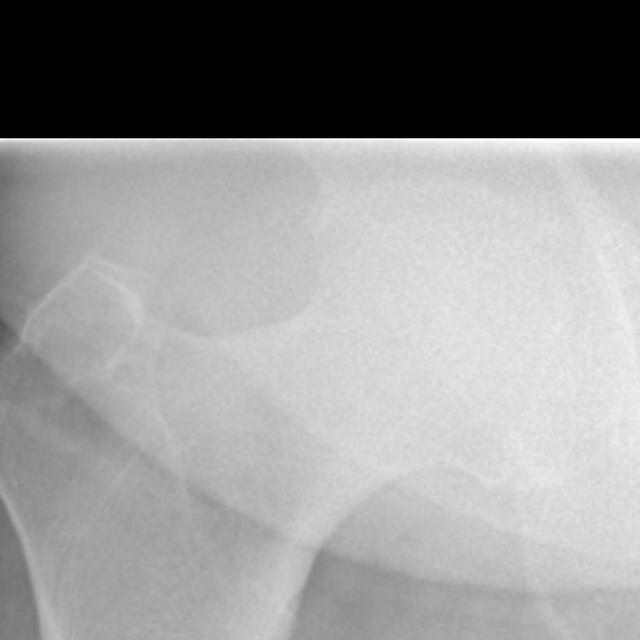Fitted_femural_head: (357, 175, 432, 357)
